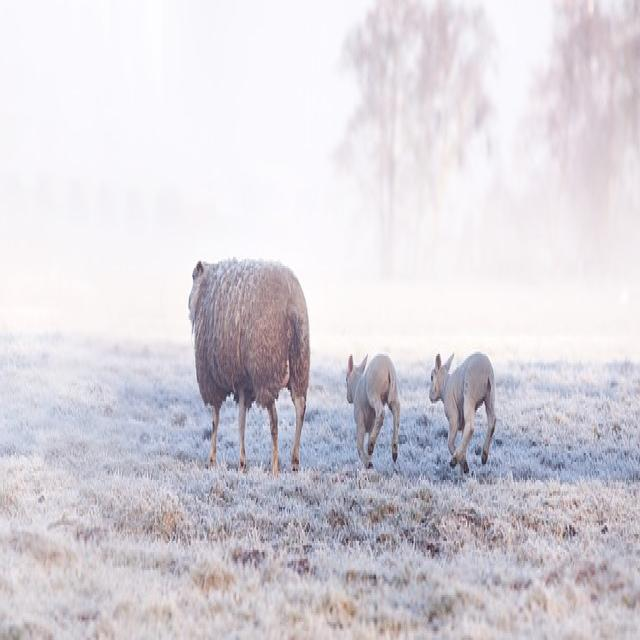sheep: (187, 254, 310, 476), (428, 349, 496, 474), (345, 349, 400, 469)
